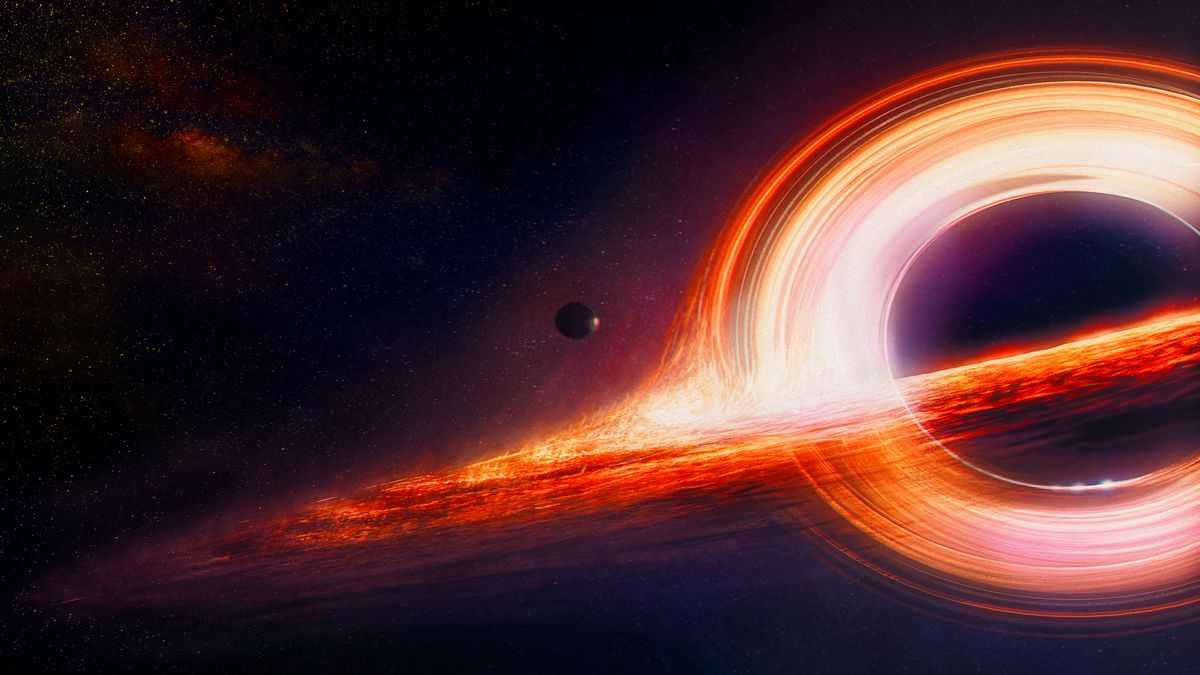black hole: (840, 152, 1200, 519)
planet: (542, 290, 619, 347)
